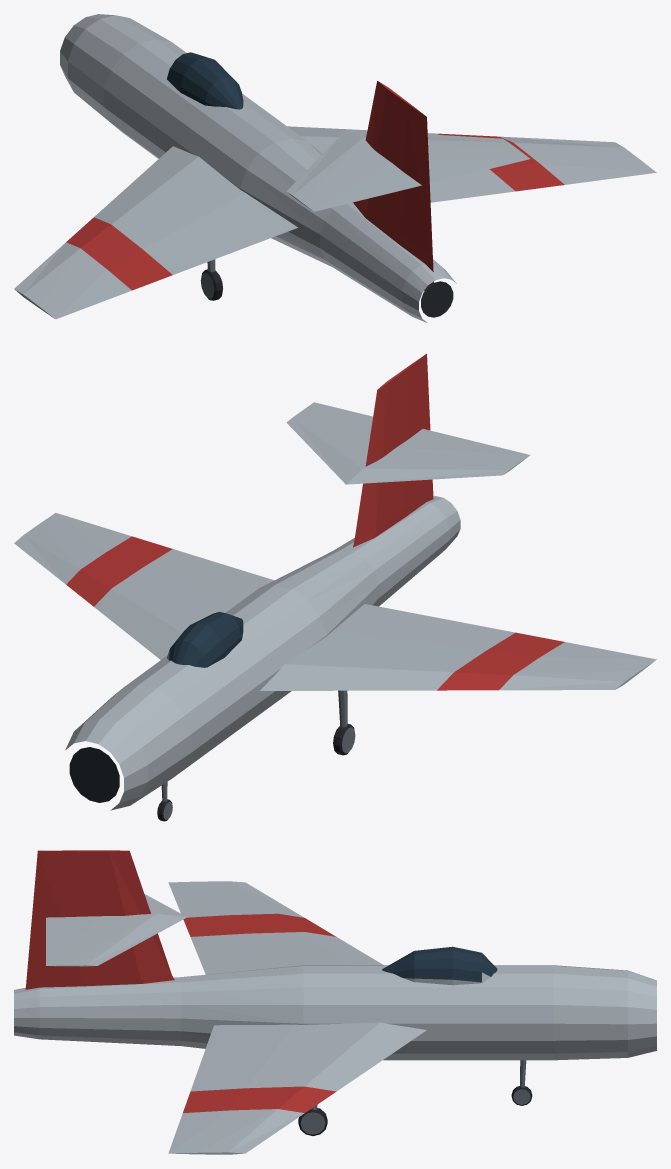
Rendered from mig15.glb.
3 views of the same model, one above another, from view 1: azimuth 30°, elevation 25°; view 2: azimuth 150°, elevation 25°; view 3: azimuth 270°, elevation 25° (orthographic). The views are drawn at different scales.
Parts seen in each view (by area): view 1: airframe, gear; view 2: airframe, gear; view 3: airframe, gear.
Boxes of the visible parts, left/top/right/bottom form: airframe: left=14, top=14, right=656, bottom=322; gear: left=200, top=259, right=222, bottom=300; airframe: left=14, top=353, right=656, bottom=810; gear: left=157, top=690, right=355, bottom=821; airframe: left=14, top=850, right=656, bottom=1154; gear: left=298, top=1060, right=532, bottom=1135.
Bounding box in the file's own units: 10.08 × 4.41 × 10.1.
